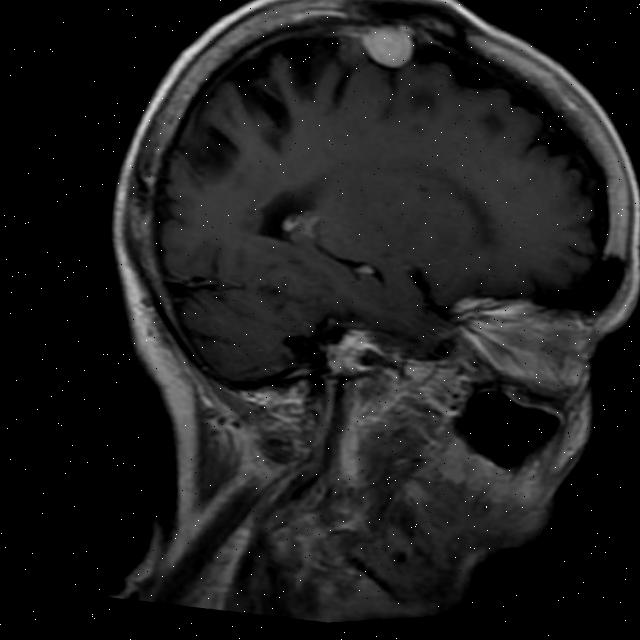Meningioma: (354, 17, 421, 74)
